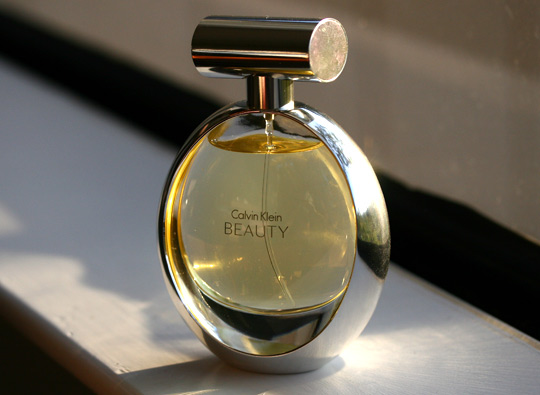Calvin Klein: (221, 199, 292, 226)
